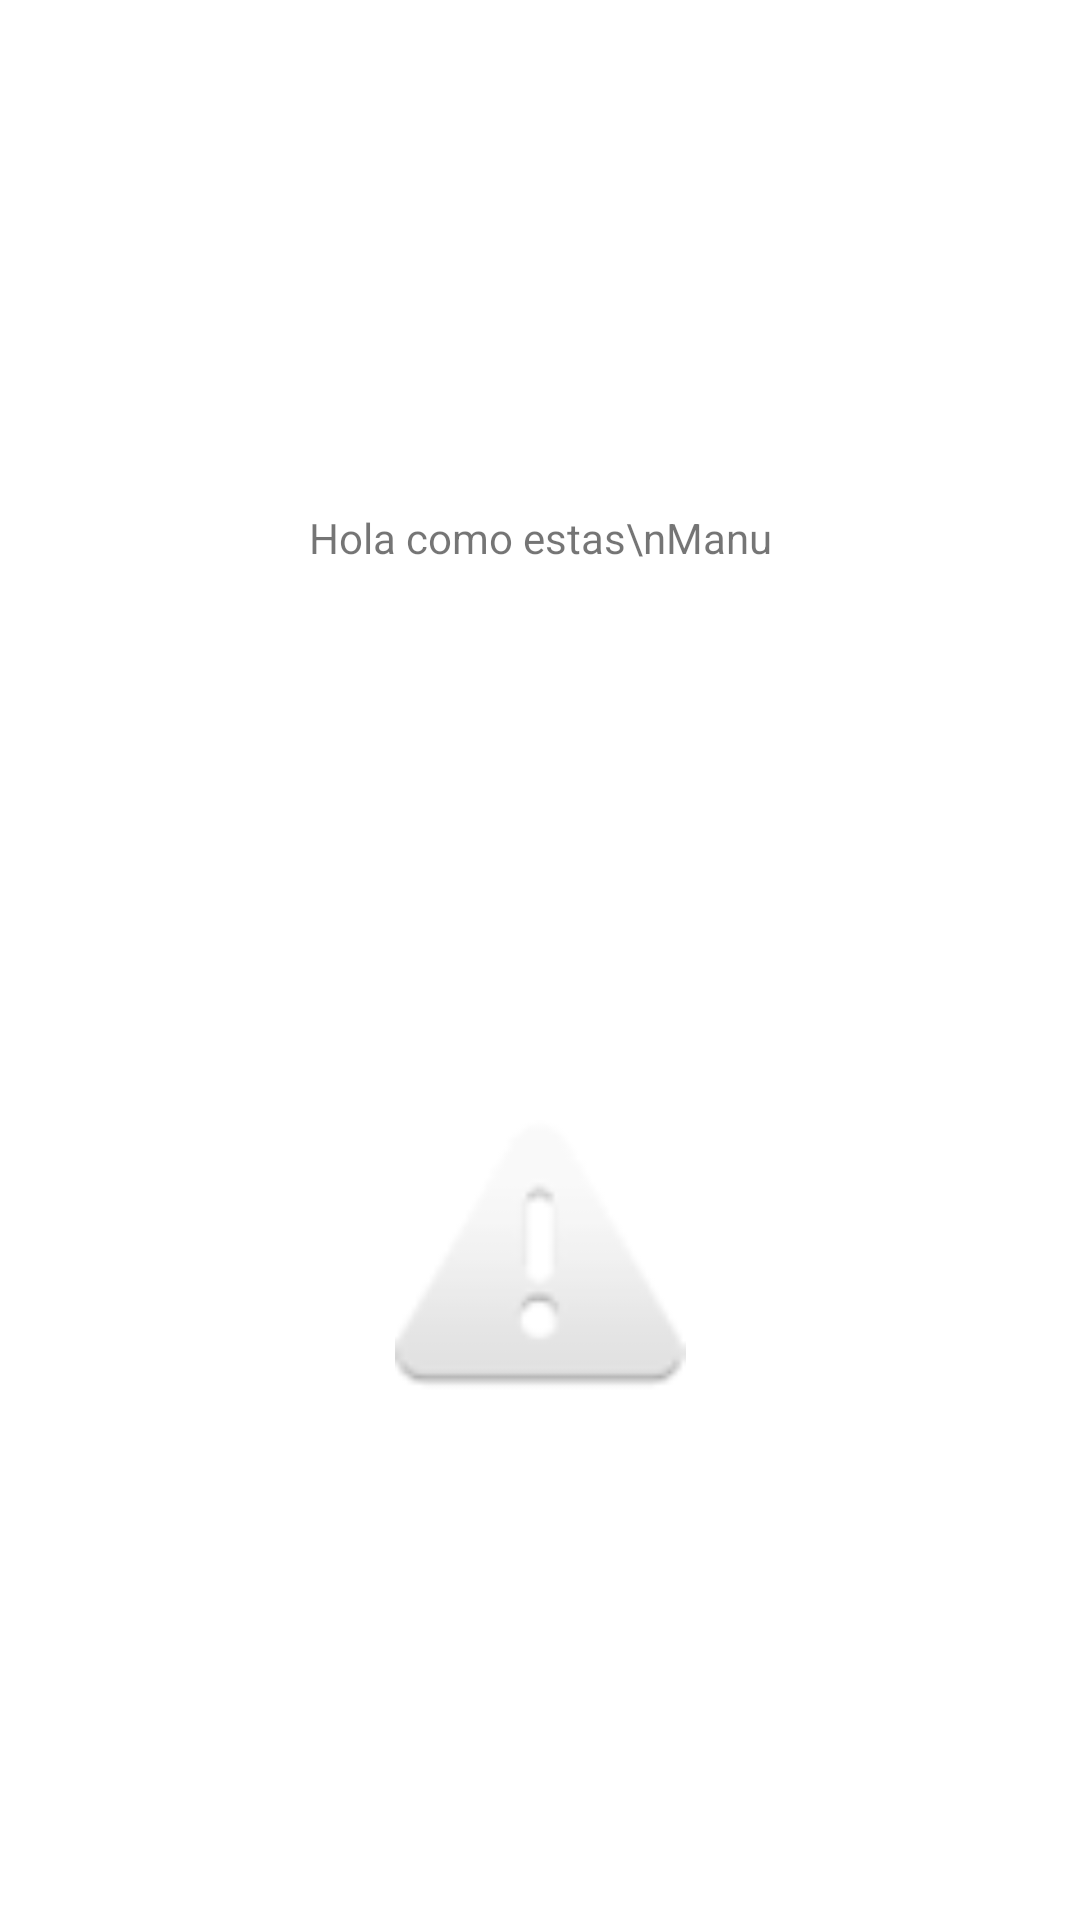

Icon click points for this 1080w x 1920h phone screenshot, format point (x, y):
alert: point (540, 1286)
